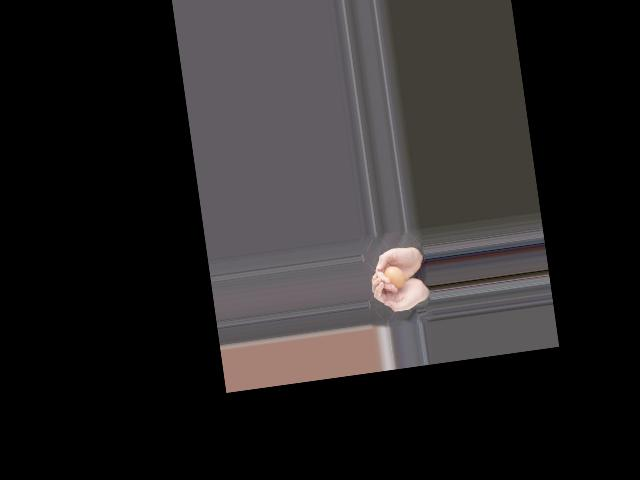egg: (383, 264, 406, 291)
